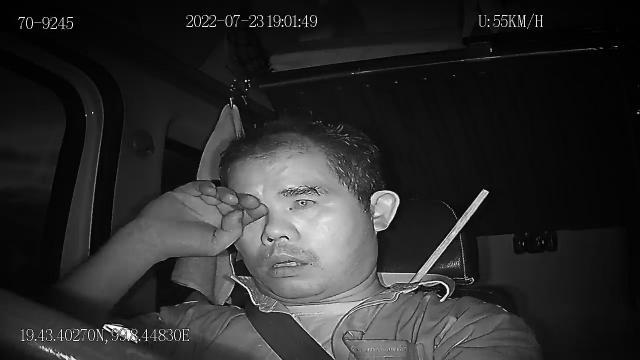SafeDriving: (283, 188, 323, 214)
Seatbelt: (244, 306, 336, 360)
